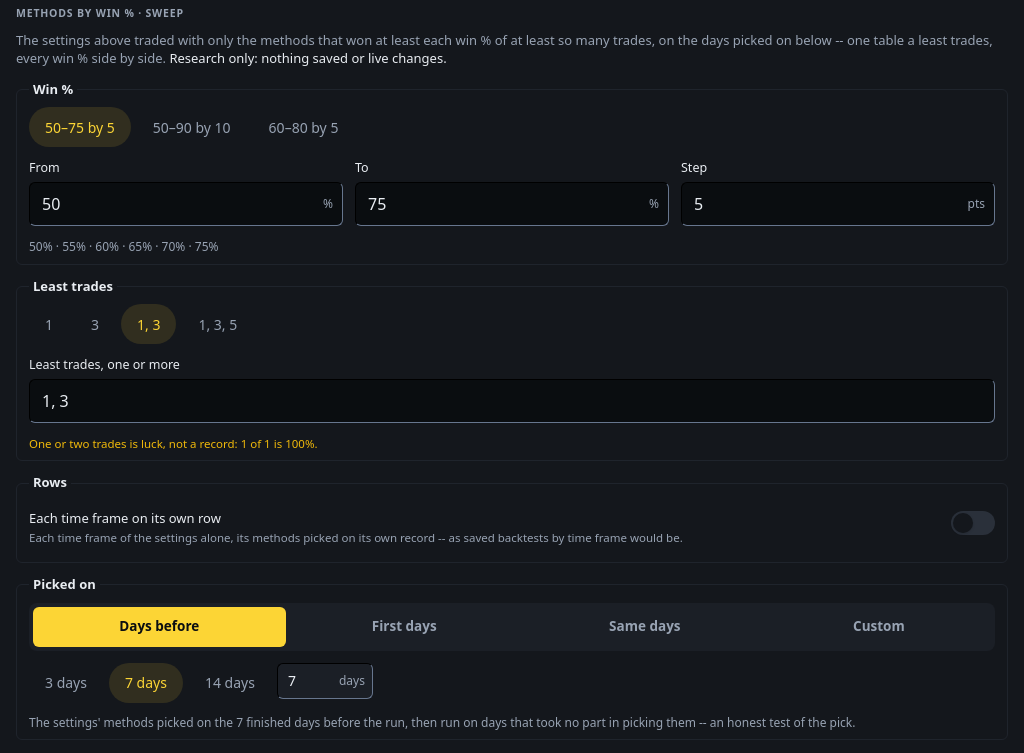
Scenario: WinSweep › of the single backtest: no saved backtests to tick, each time frame a row when asked
Click the switch named "Each time frame on its own row" at (973, 523), box top-left (951, 511), bottom-right (995, 535)
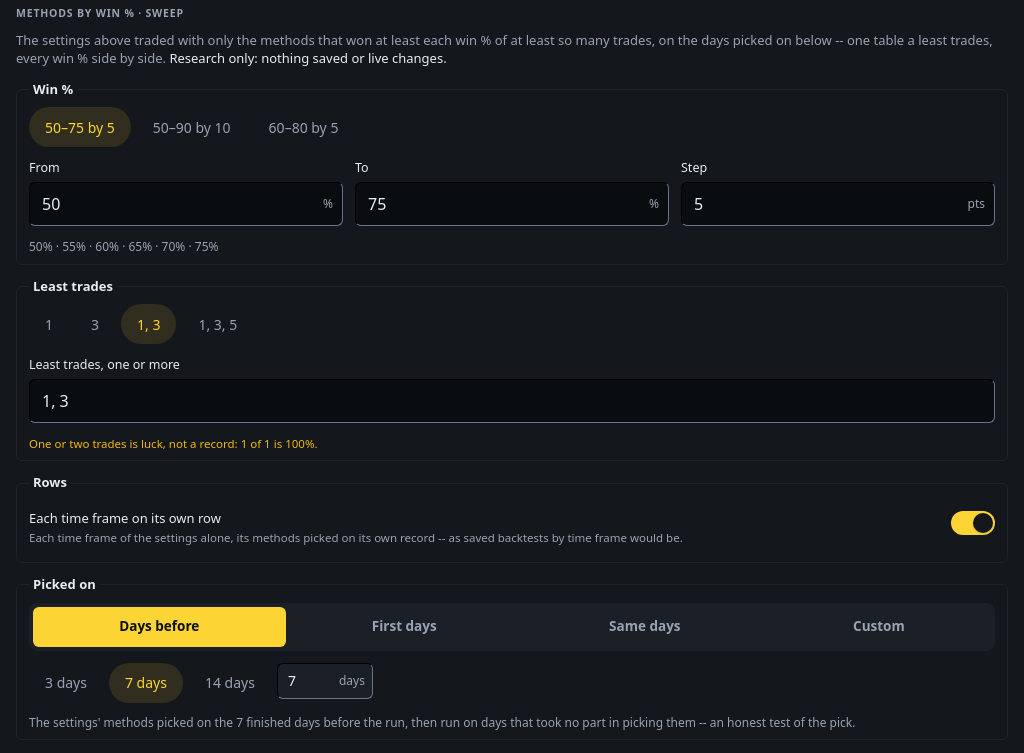
Click the radio button with aria-label "Picked on the run's own days" at (645, 627), box top-left (523, 607), bottom-right (767, 647)
(page scrolled)
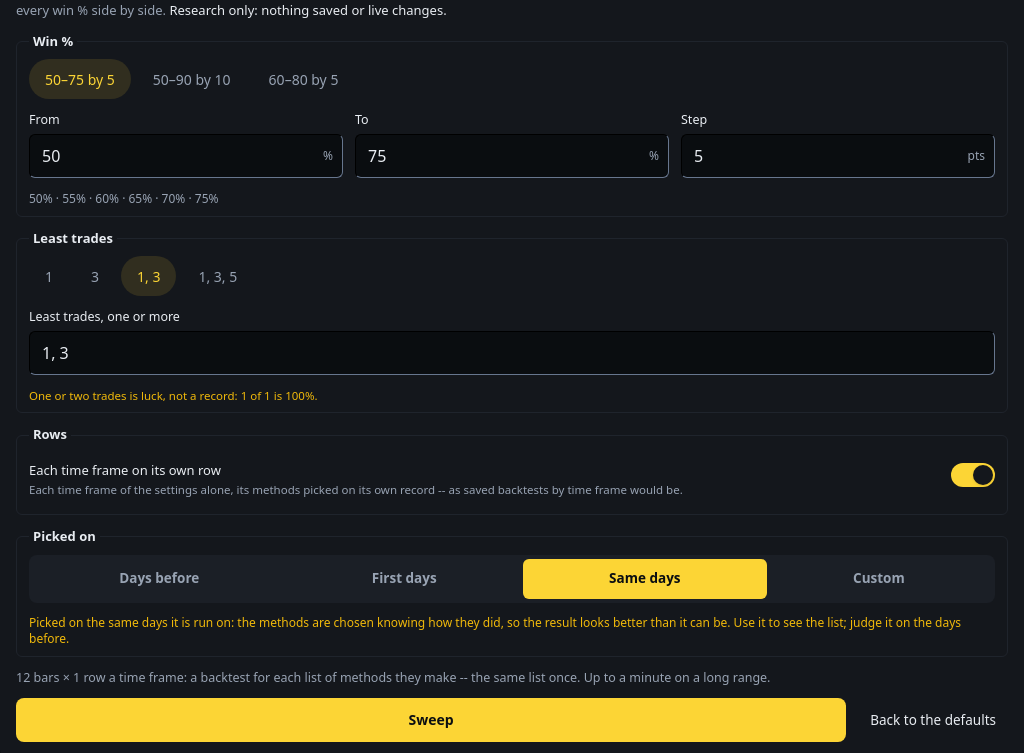
Click the button "Sweep" at (431, 720), box top-left (16, 698), bottom-right (846, 742)
(page scrolled)
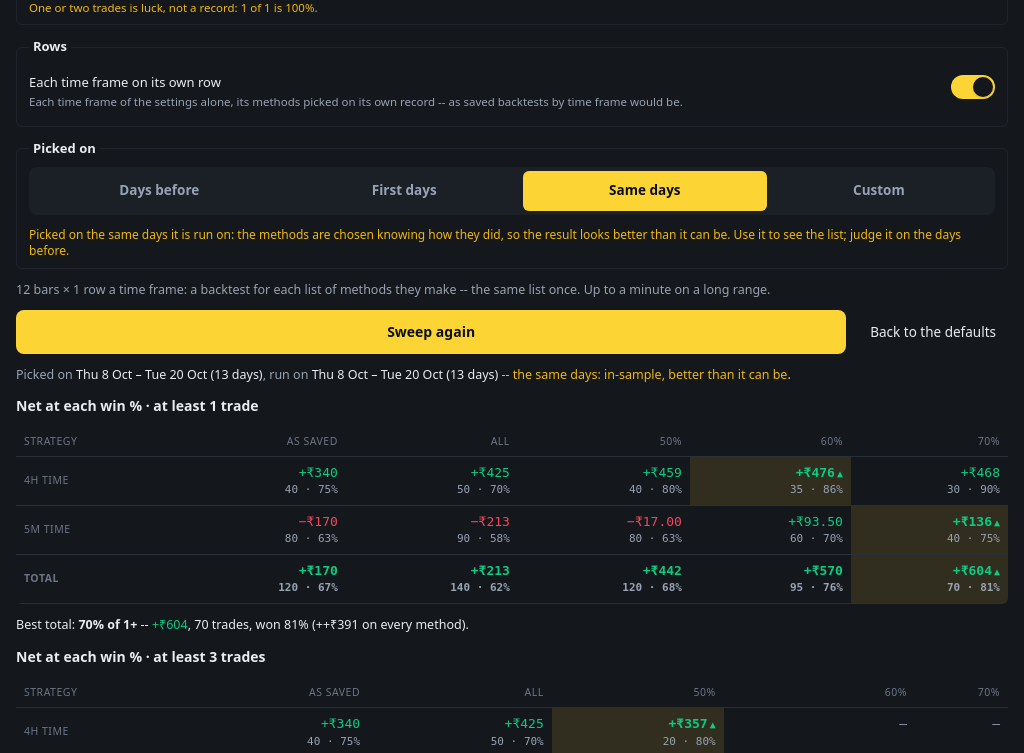
Expected: the text "-- the same days: in-sample, better than it can be" is shown, top-left (498, 366), bottom-right (787, 383)
